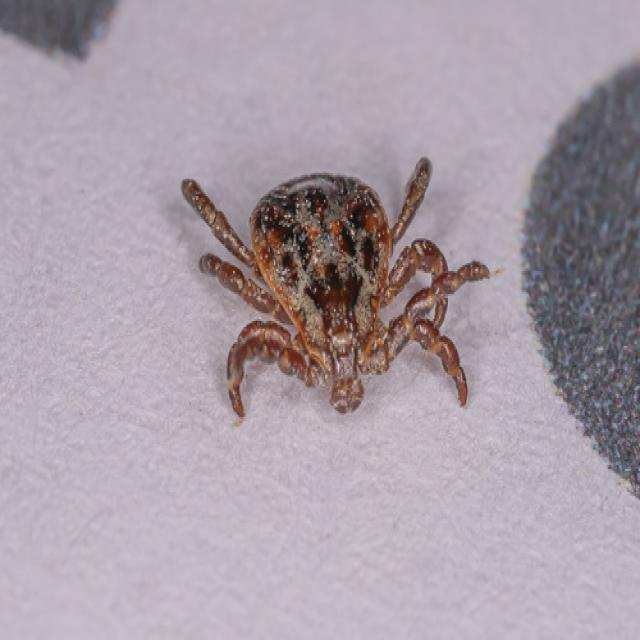Dermacentor Reticulatus-M: (180, 160, 494, 419)
